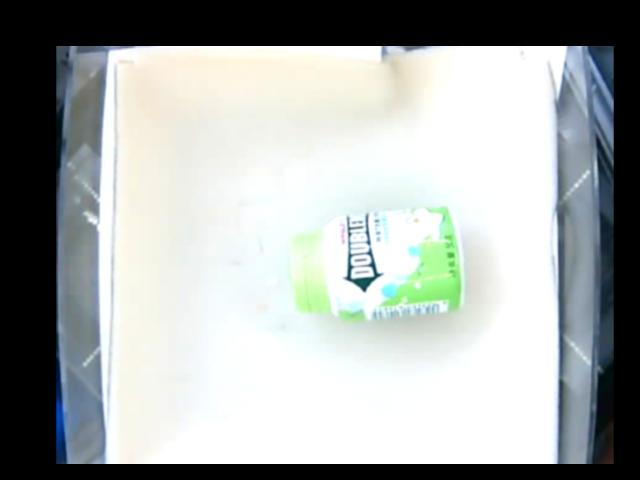Bottle: (288, 206, 465, 321)
